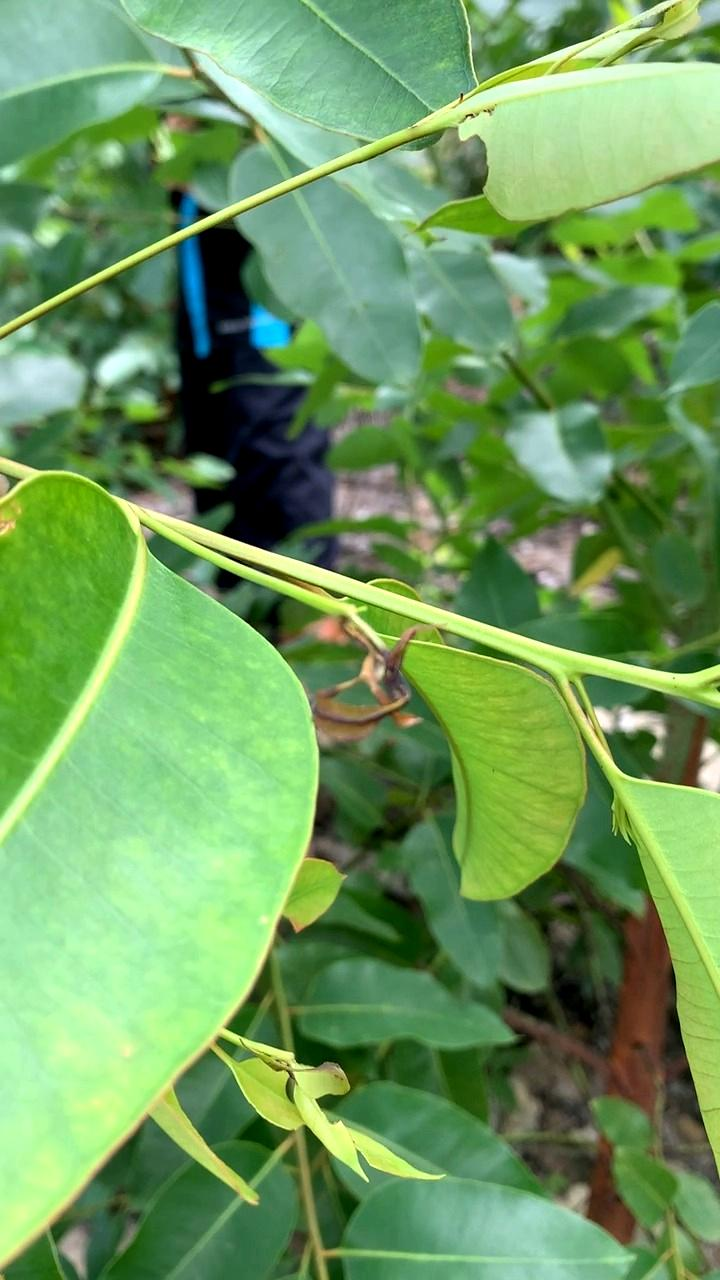Helopeltis-Withered Sprout: (320, 633, 426, 741)
